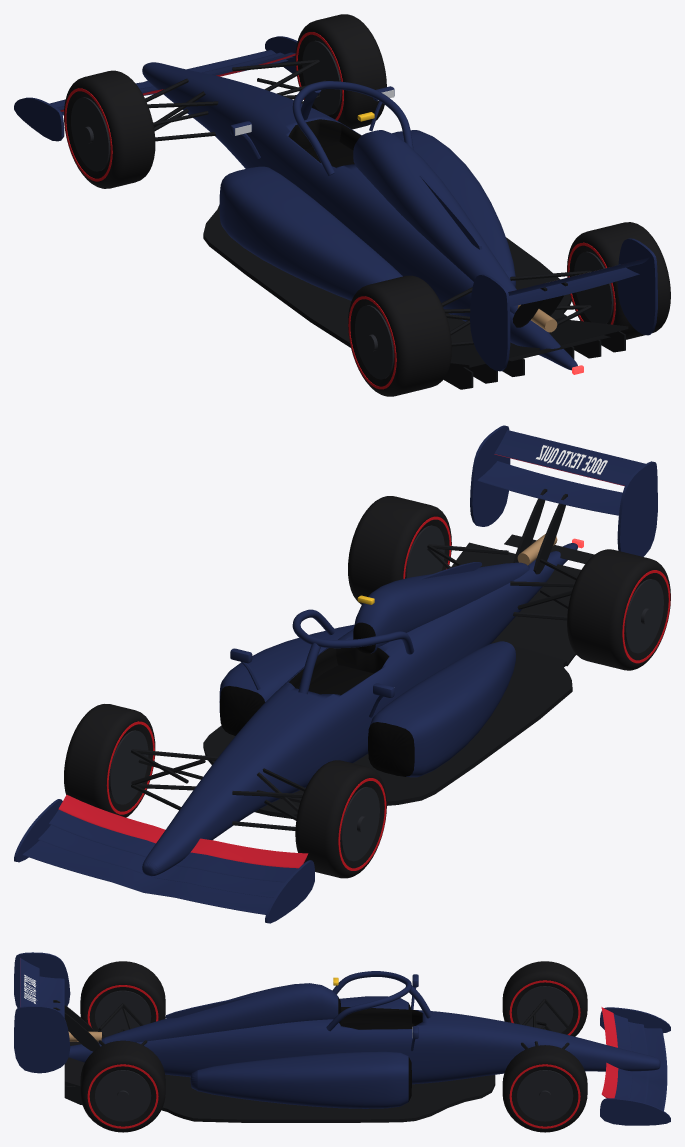
The model's file is carro_f1.glb.
3 renders of one model, top to bottom at view 1: azimuth 30°, elevation 25°; view 2: azimuth 150°, elevation 25°; view 3: azimuth 270°, elevation 25°, orthographic. The views are drawn at different scales.
Parts seen in each view (by area): view 1: Carroceria, Roda_TE, Roda_FE, Roda_FD, Roda_TD; view 2: Carroceria, Roda_TE, Roda_FE, Roda_FD, Roda_TD; view 3: Carroceria, Roda_TD, Roda_FD, Roda_FE, Roda_TE.
Boxes of the visible parts, x1,y1,x2,y2 form: Carroceria: [14, 36, 657, 389]; Roda_TE: [348, 275, 451, 396]; Roda_FE: [64, 70, 155, 188]; Roda_FD: [295, 14, 386, 129]; Roda_TD: [567, 222, 670, 339]; Carroceria: [14, 425, 657, 923]; Roda_TE: [567, 549, 670, 670]; Roda_FE: [295, 760, 386, 878]; Roda_FD: [64, 704, 155, 817]; Roda_TD: [348, 496, 451, 604]; Carroceria: [14, 952, 670, 1125]; Roda_TD: [80, 1040, 165, 1132]; Roda_FD: [502, 1045, 587, 1132]; Roda_FE: [502, 961, 587, 1036]; Roda_TE: [80, 961, 165, 1036].
Bounding box in the file's own units: 1.34 × 0.6581 × 3.71.
Materials: 12 (1 with a texture image).
